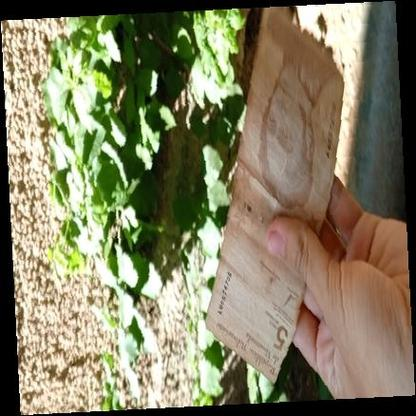five-front-vef: (204, 7, 344, 383)
